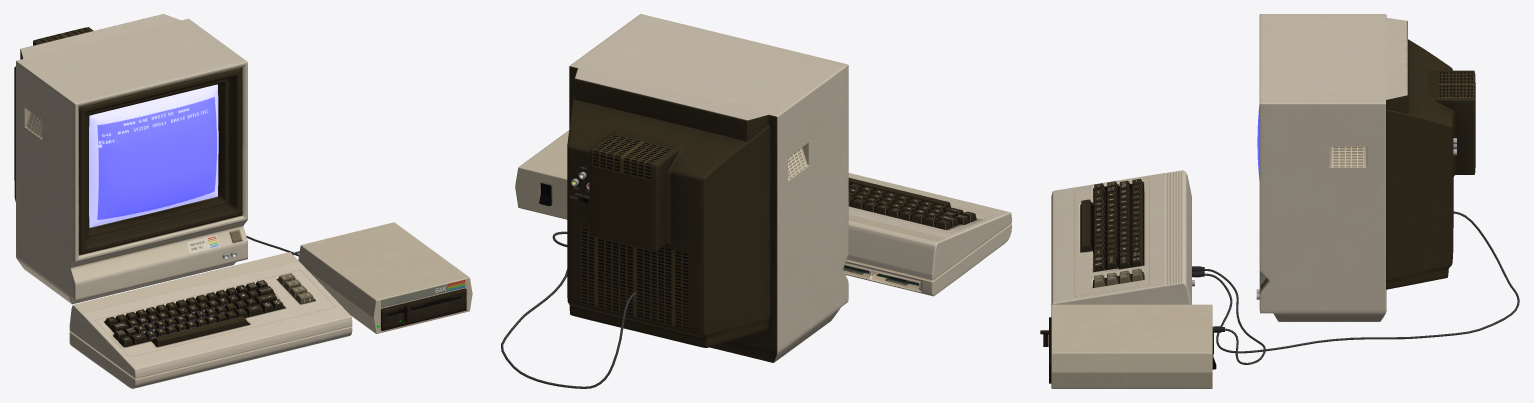
The picture shows the model from 3 angles, left to right: view 1: azimuth 30°, elevation 25°; view 2: azimuth 150°, elevation 25°; view 3: azimuth 270°, elevation 25°; orthographic projection. The views are drawn at different scales.
Parts seen in each view (by area): view 1: MRLN_8bit2Monitor.Shape, MRLN_8bit2.Shape, MRLN_8bit2Diskdrive.Shape; view 2: MRLN_8bit2Monitor.Shape, MRLN_8bit2.Shape, MRLN_8bit2Diskdrive.Shape, MRLN_8bit2Leads.Shape; view 3: MRLN_8bit2Monitor.Shape, MRLN_8bit2.Shape, MRLN_8bit2Diskdrive.Shape, MRLN_8bit2Leads.Shape.
Boxes of the visible parts, x1,y1,x2,y2 form: MRLN_8bit2Monitor.Shape: (14,14,247,304); MRLN_8bit2.Shape: (69,252,352,388); MRLN_8bit2Diskdrive.Shape: (298,222,472,333); MRLN_8bit2Monitor.Shape: (567,14,848,362); MRLN_8bit2.Shape: (843,173,1011,296); MRLN_8bit2Diskdrive.Shape: (515,130,569,219); MRLN_8bit2Leads.Shape: (501,231,635,388); MRLN_8bit2Monitor.Shape: (1256,14,1475,321); MRLN_8bit2.Shape: (1051,170,1194,304); MRLN_8bit2Diskdrive.Shape: (1040,304,1216,388); MRLN_8bit2Leads.Shape: (1192,211,1519,364).
Size of the model in its own units: 0.6029 by 0.3568 by 0.6976.
Materials: 8 (5 with a texture image).
